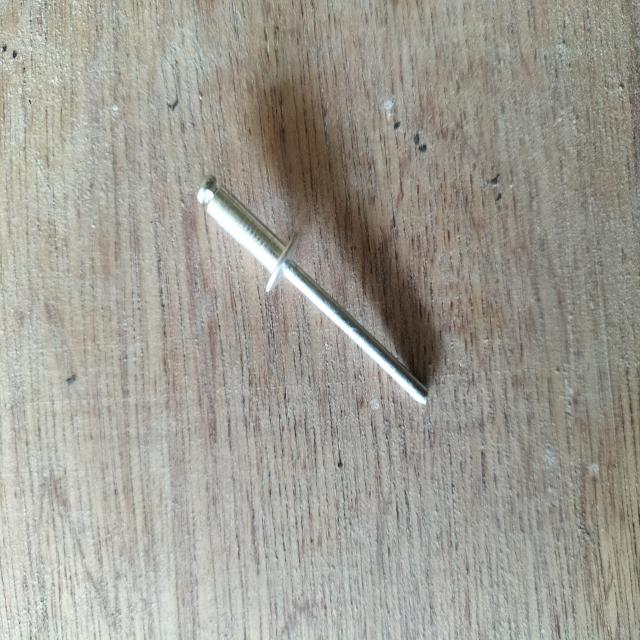rivet: (197, 174, 429, 411)
